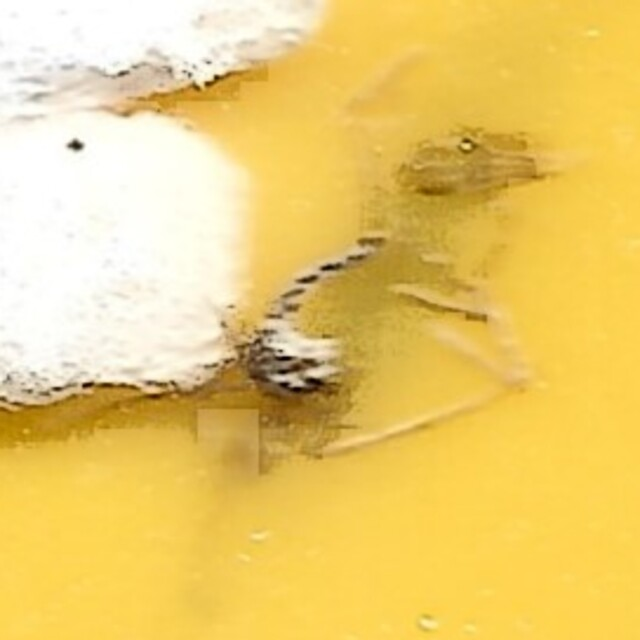Nematocera: (235, 220, 405, 420)
